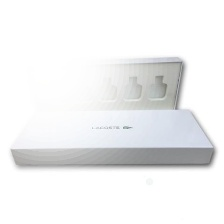book: (6, 51, 217, 171)
